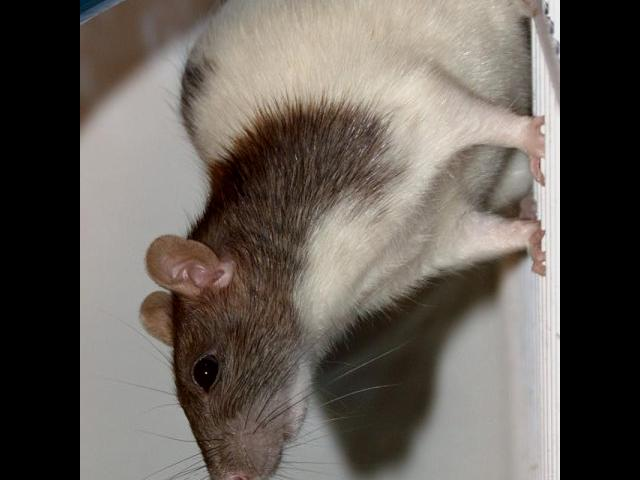Tikus: (138, 0, 547, 480)
